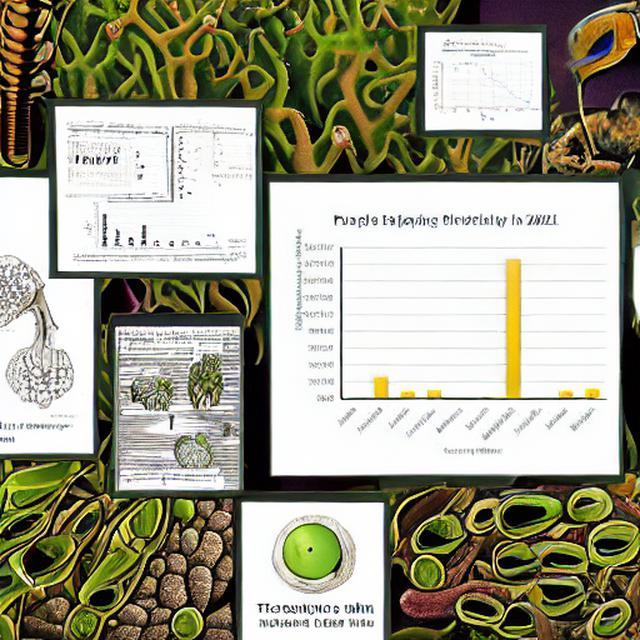Graph: (278, 209, 616, 467), (428, 48, 538, 118), (83, 200, 178, 253)
